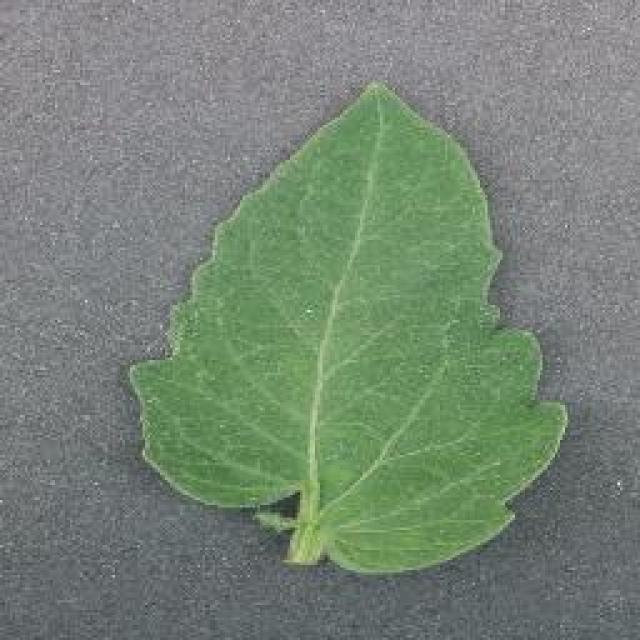Tomato_Healthy: (121, 73, 582, 582)
